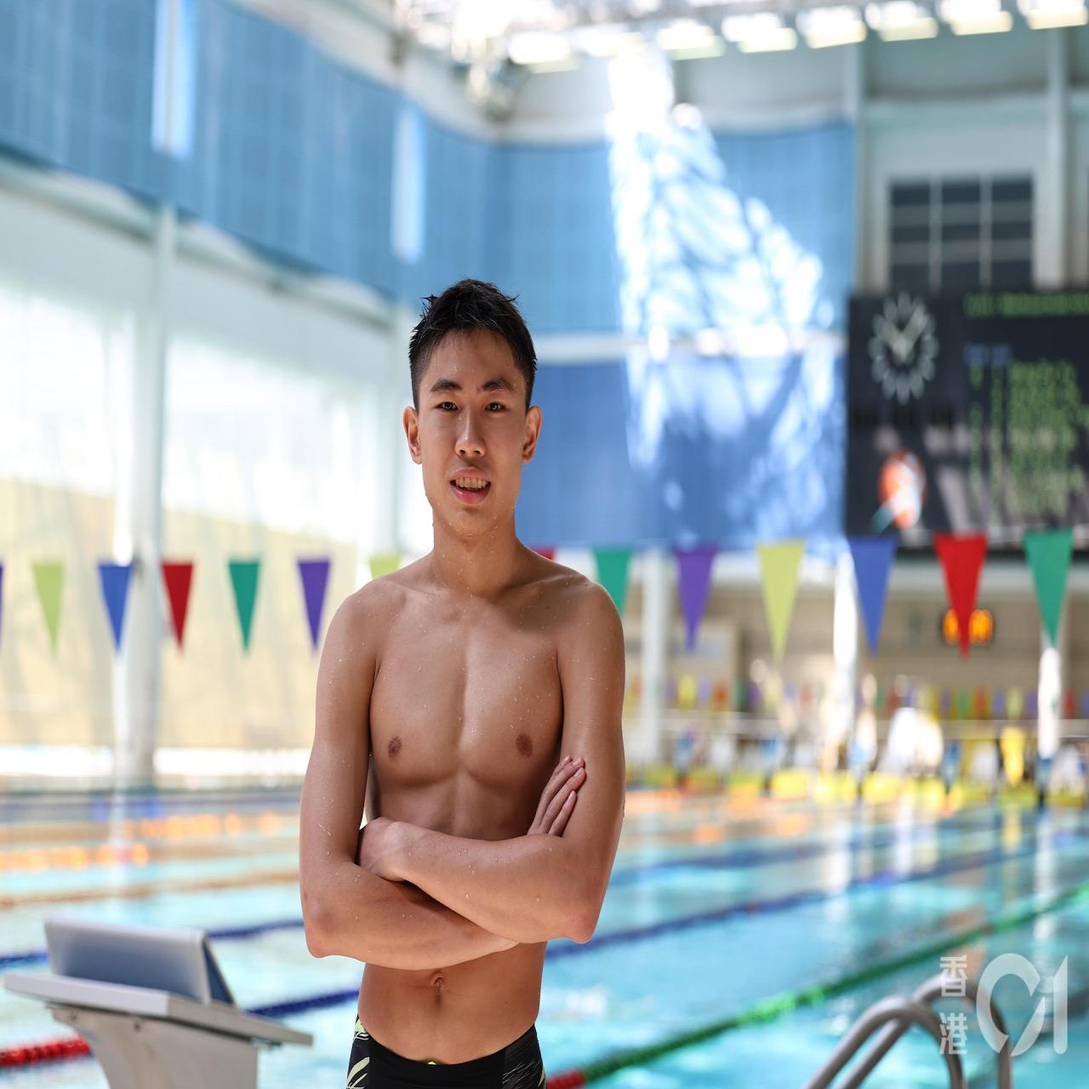NO_Safety_Vest: (315, 543, 623, 1066)
Person: (272, 271, 634, 1089)
